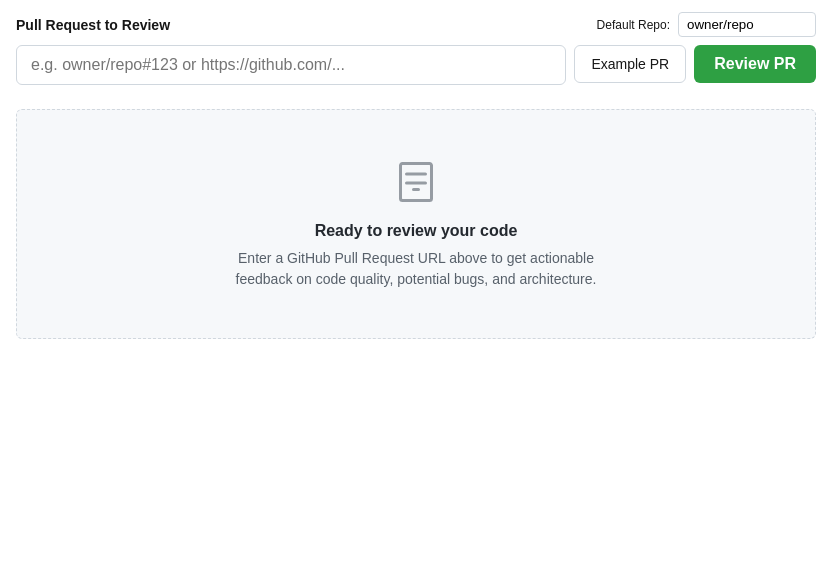
Test: UI Integration: Full Review Flow › should flow from input to displaying comments
# Enter PR information
Type "owner/repo#123" into the field with placeholder "e.g. owner/repo#123 or https://github.com/..." at (291, 65), box [16, 45, 566, 85]
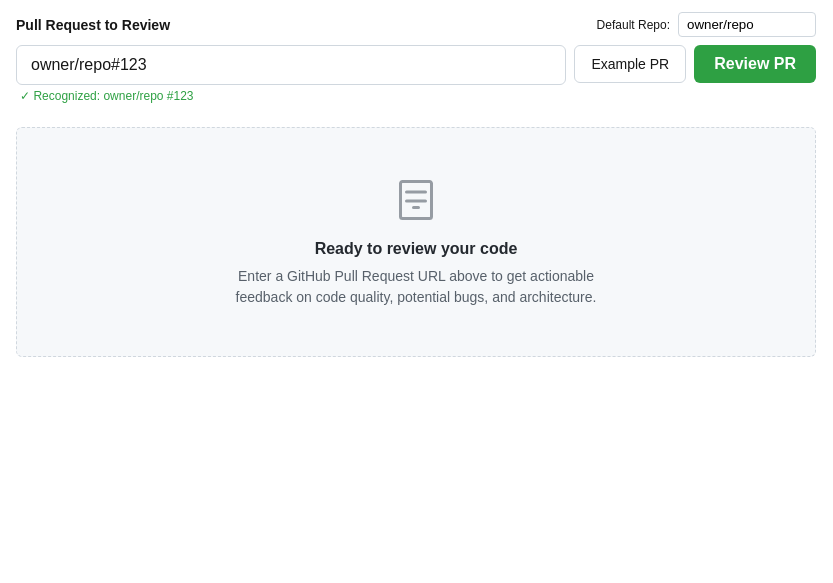
# 4. Submit
Click the button "Review PR" at (755, 64), box [694, 45, 816, 83]
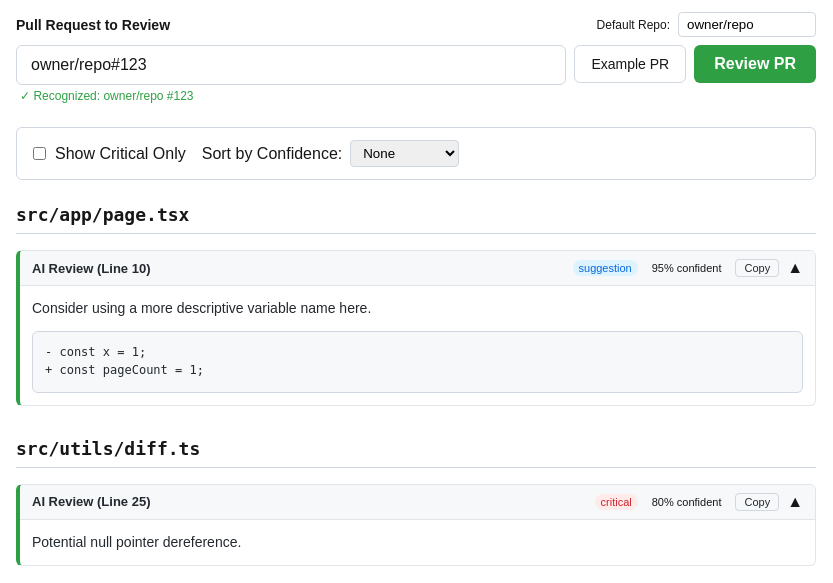
Check: the text "Consider using a more descriptive variable name here." is shown, box [32, 300, 371, 316]
Check: the text "Potential null pointer dereference." is shown, box [32, 534, 241, 550]
